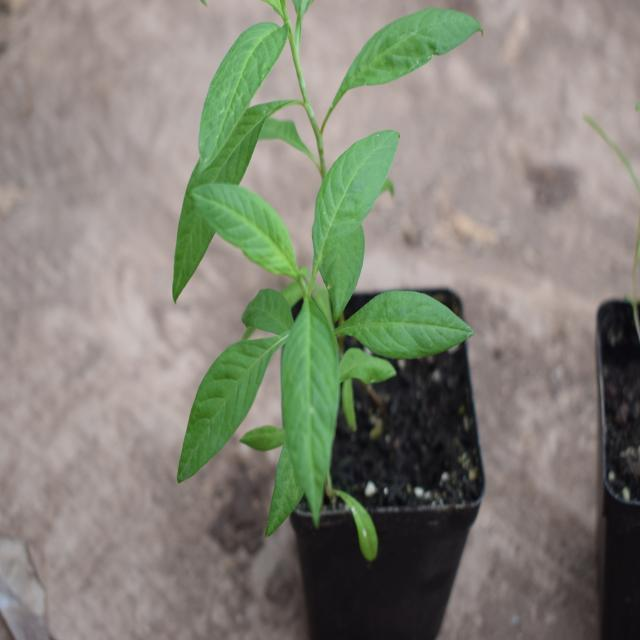white_smart_weed: (166, 126, 494, 536)
